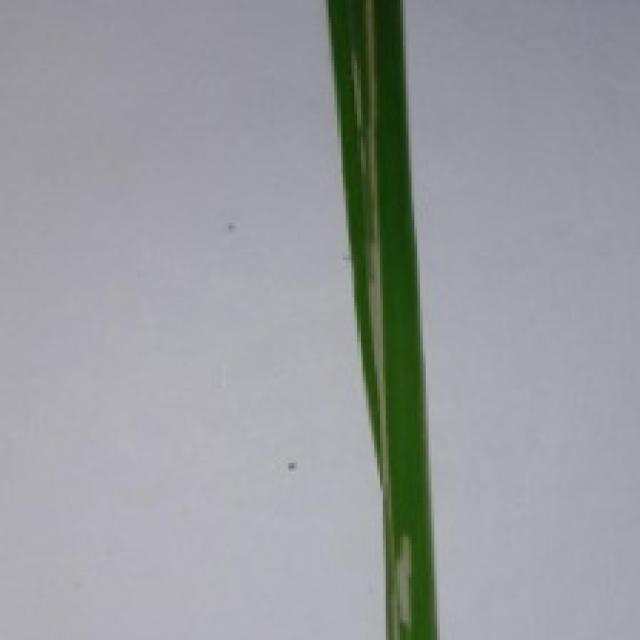Bacterial_Blight: (334, 0, 402, 513), (382, 528, 430, 639)
